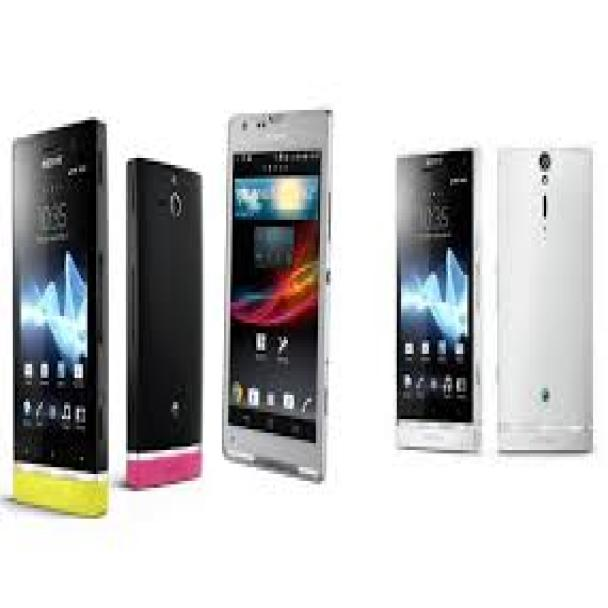Handphone: (12, 113, 110, 514), (223, 112, 329, 482), (494, 148, 596, 456), (392, 143, 483, 450), (122, 156, 204, 484)
